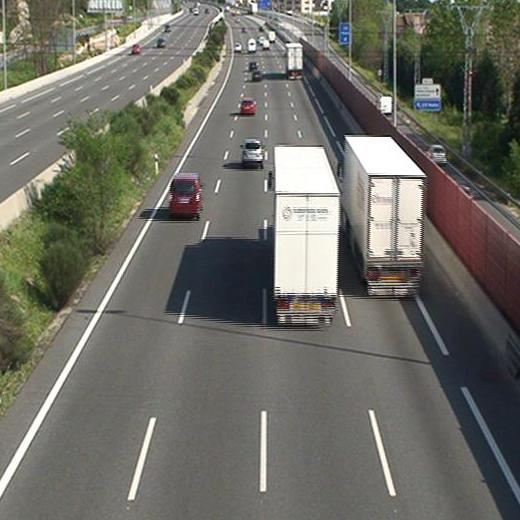car: (170, 174, 203, 218), (240, 140, 263, 166), (240, 98, 255, 114), (250, 70, 261, 82), (234, 42, 242, 53), (247, 61, 258, 69)
truck: (338, 137, 426, 298), (270, 145, 339, 325), (284, 42, 302, 80)
van: (246, 38, 256, 53), (262, 39, 269, 50)
